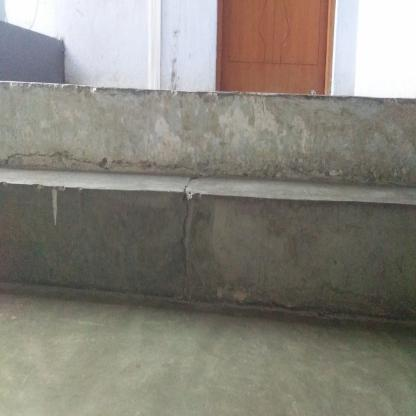stairs: (2, 82, 416, 327)
